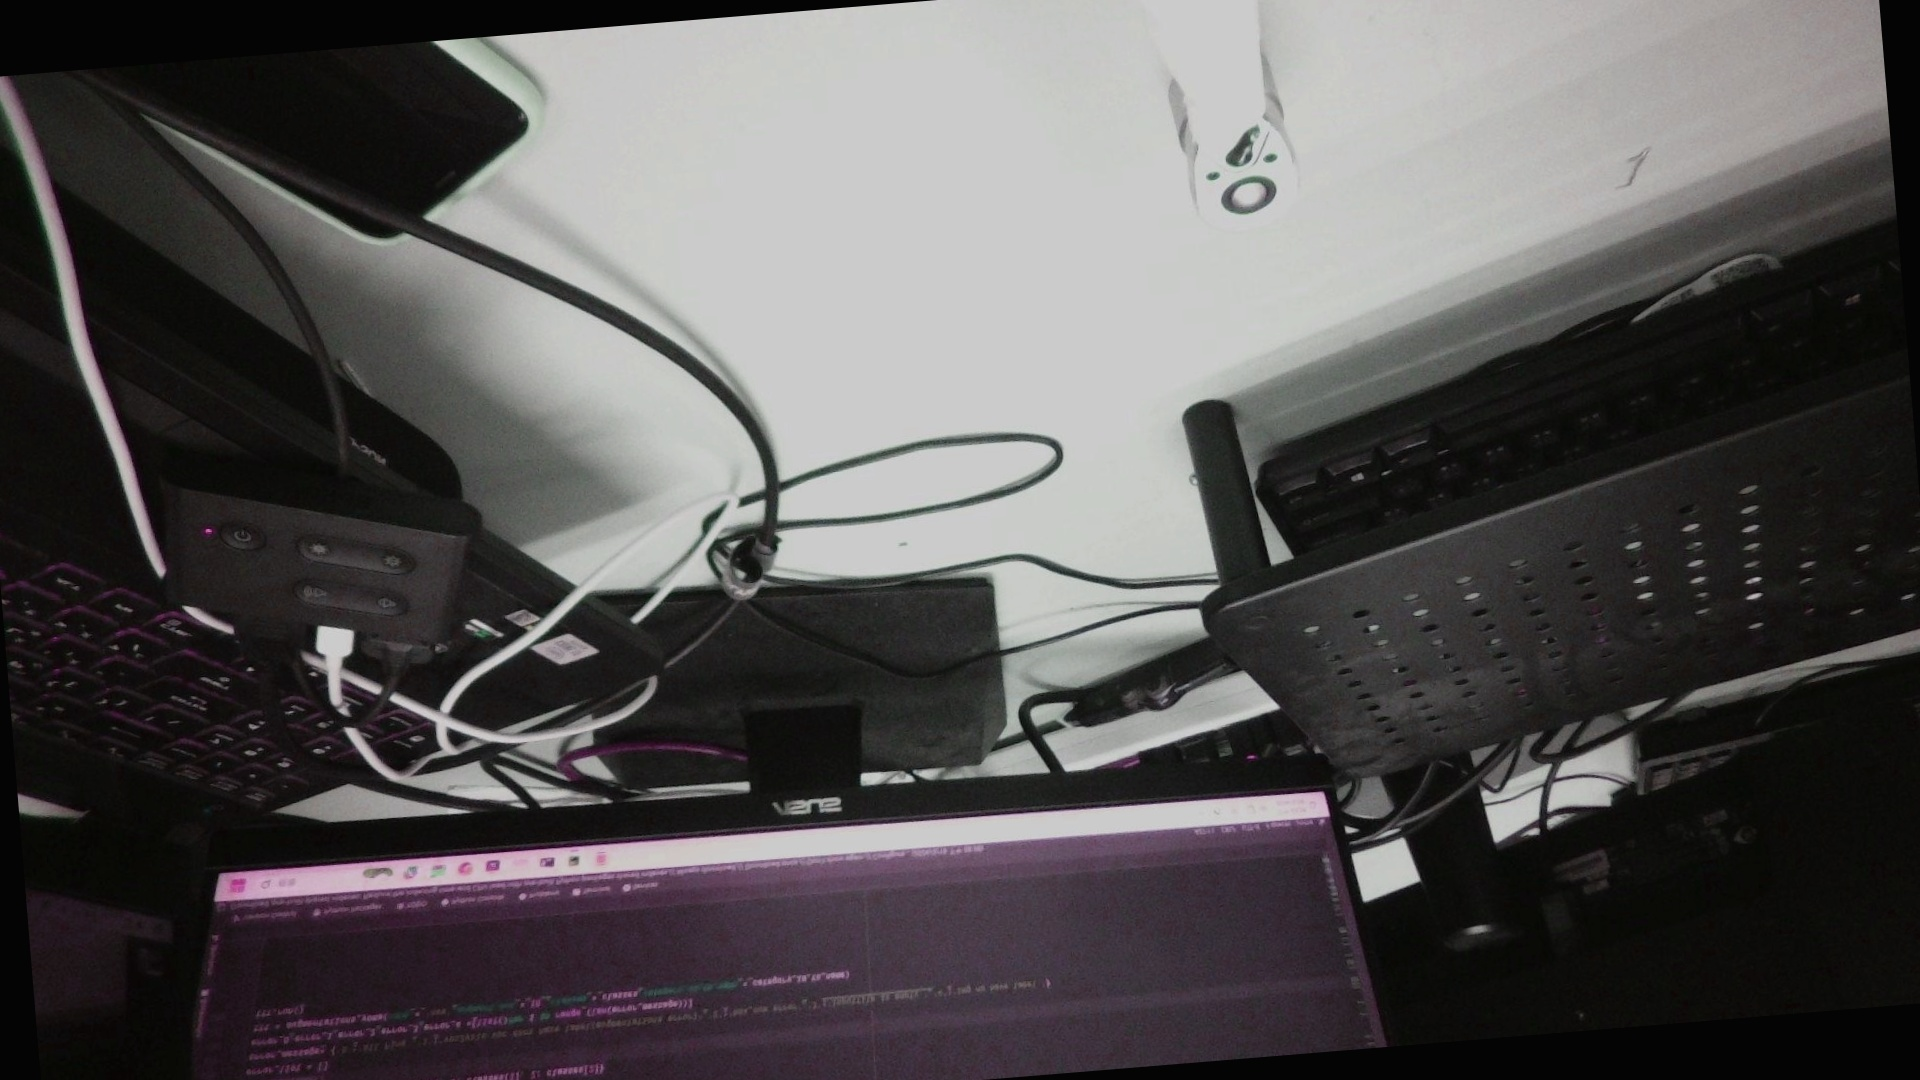wrench: (1215, 171, 1280, 224)
